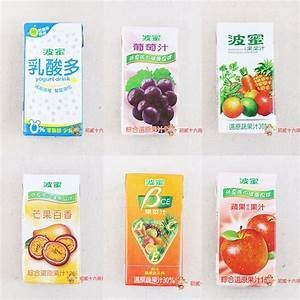vegetables juice: (211, 19, 280, 137)
